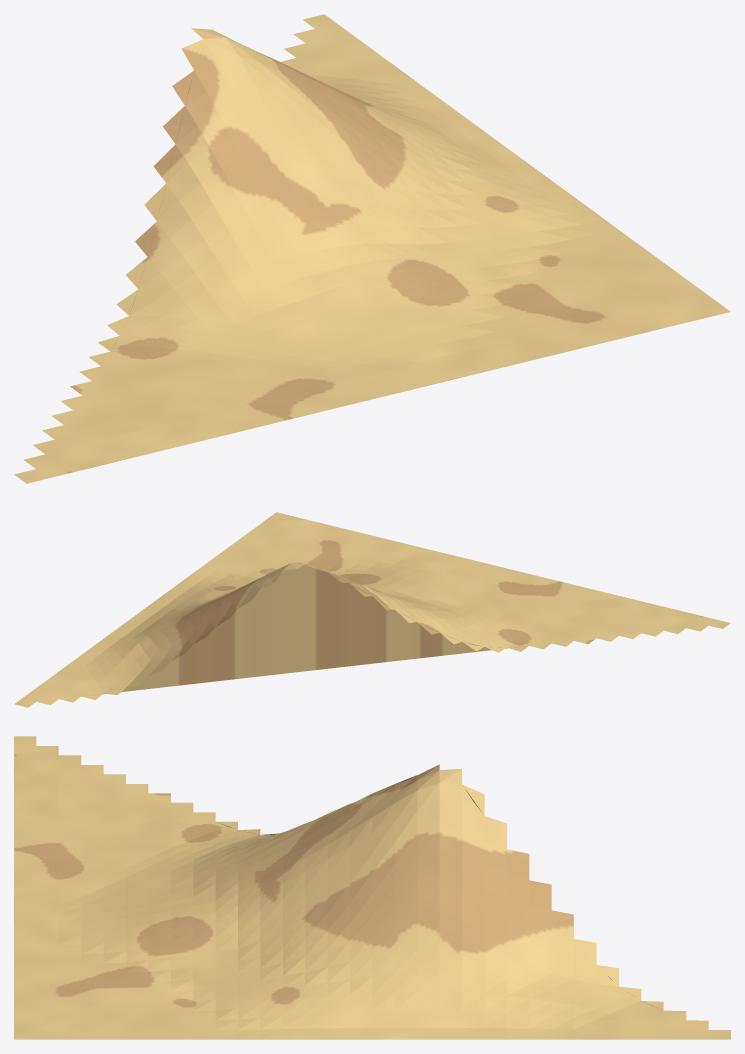
The model's file is Desert_Mountains_05_NE.obj.
3 renders of one model, top to bottom at view 1: azimuth 30°, elevation 25°; view 2: azimuth 150°, elevation 25°; view 3: azimuth 270°, elevation 25°, orthographic. The views are drawn at different scales.
Size of the model in its own units: 10 by 2.27 by 10.
1 material, 1 textured.
